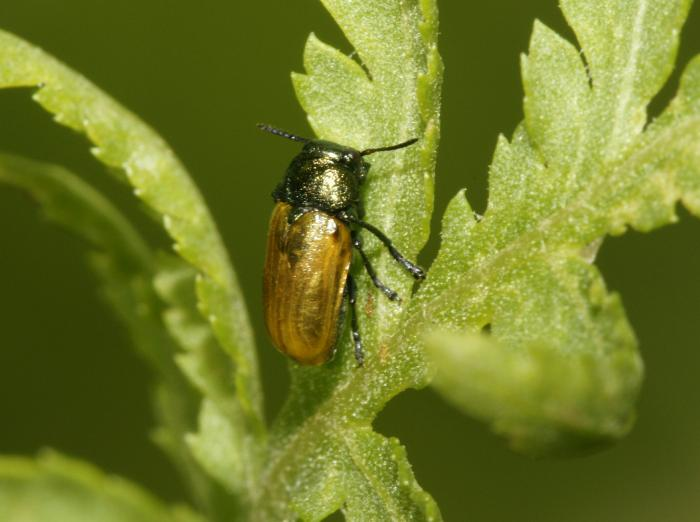Labidostomis_longimana: (255, 119, 427, 373)
